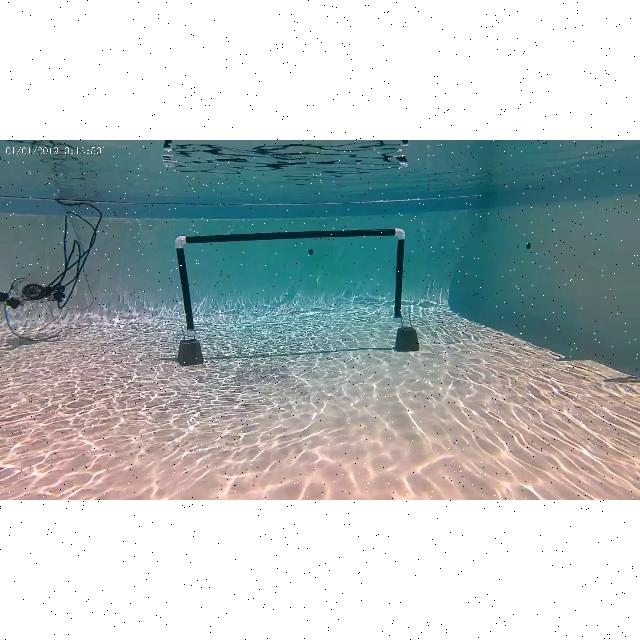prequal gate: (172, 227, 406, 336)
prequal gate leg l: (172, 232, 204, 366)
prequal gate leg r: (387, 226, 421, 350)
